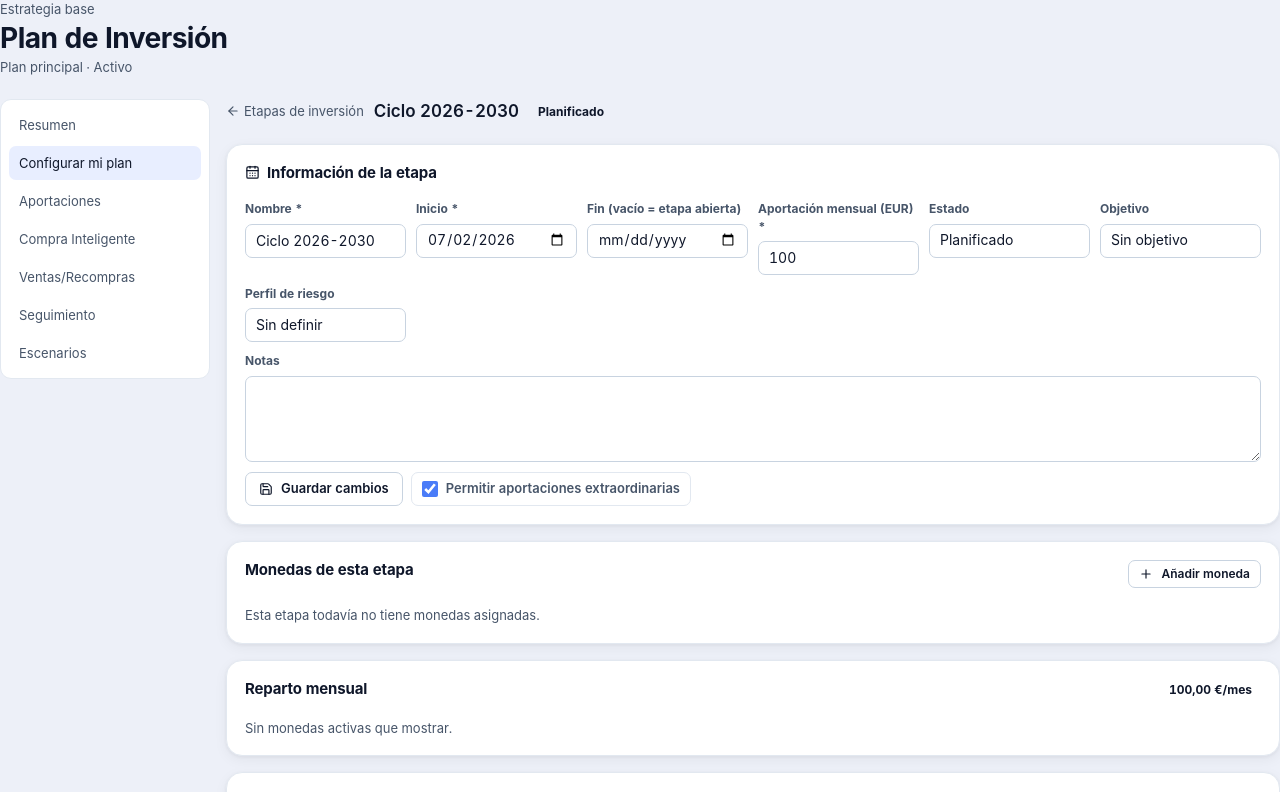
Test: PlanEtapaActivos — gestión de monedas › muestra el formulario de añadir moneda al pulsar el botón
This screenshot has width=1280, height=792.
Click the button "Añadir moneda". click: {"x": 1195, "y": 574}
box: top-left (1128, 560), bottom-right (1261, 588)
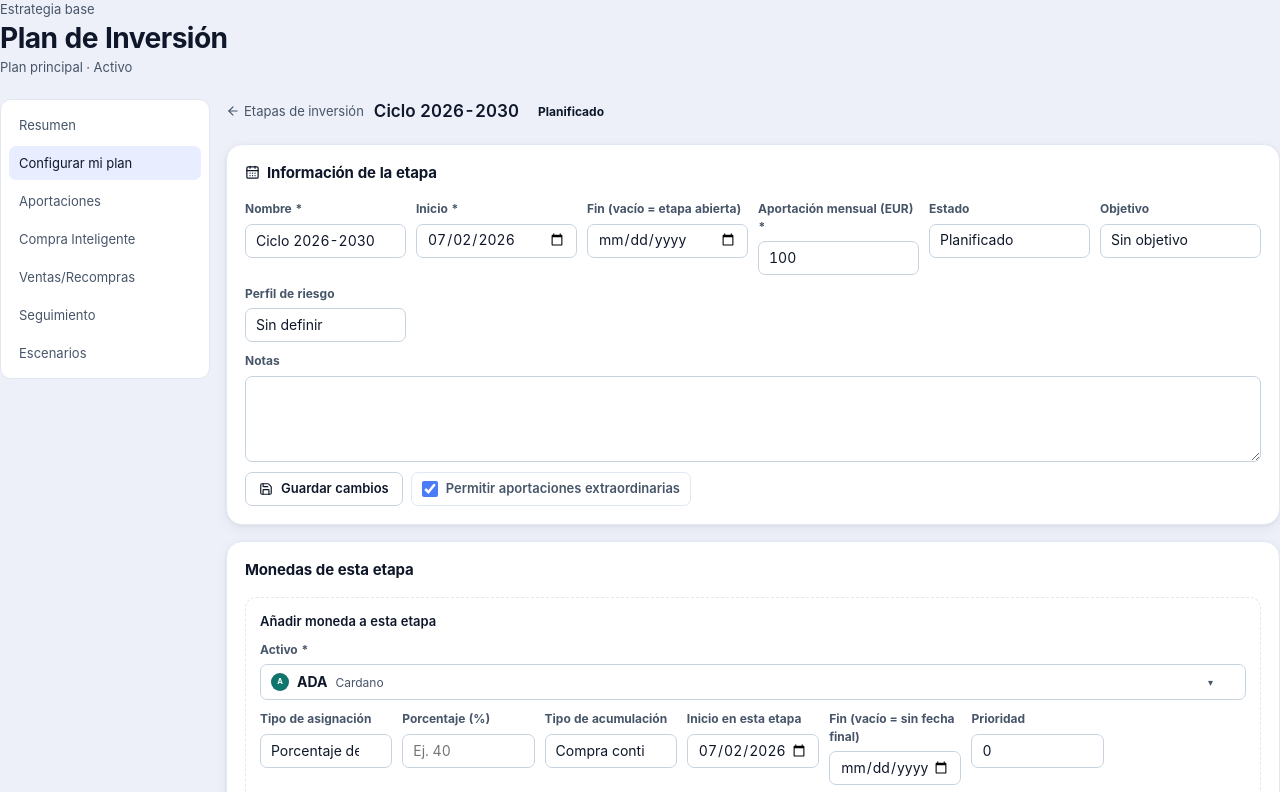
Now the heading "Añadir moneda a esta etapa" is shown, box top-left (260, 613), bottom-right (436, 629)
